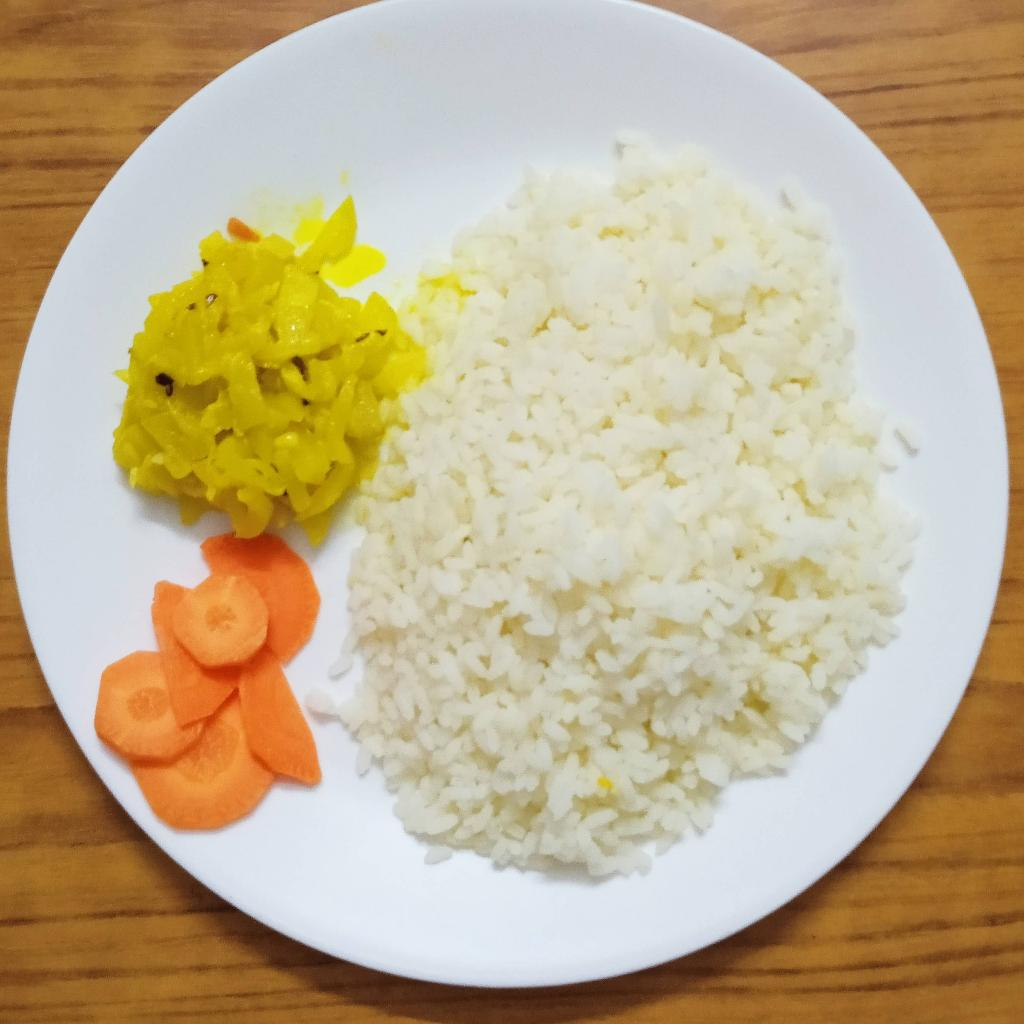carrot: (94, 525, 318, 836)
rice: (306, 130, 925, 881)
vaji: (116, 192, 407, 553)
